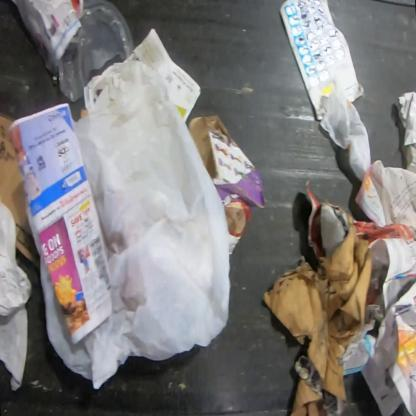cardboard: (262, 201, 373, 402), (187, 114, 266, 257), (0, 114, 40, 270), (288, 377, 326, 415)
rigid_plastic: (54, 0, 135, 104)
soft_plastic: (26, 60, 233, 390)
